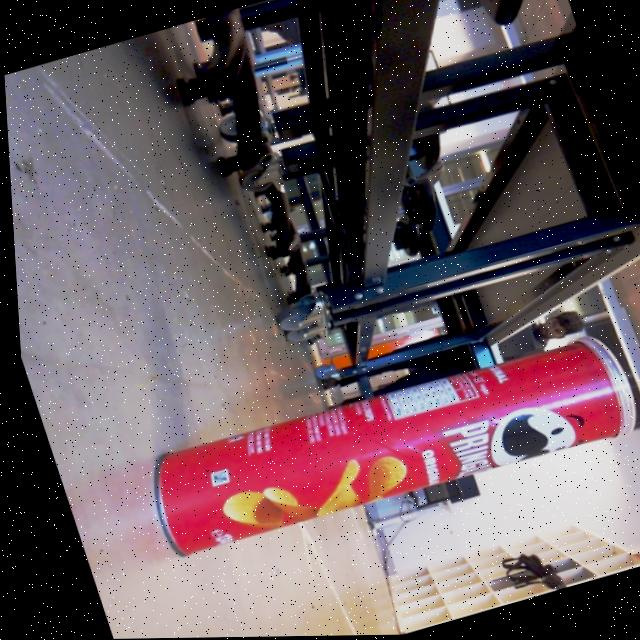redpringles: (104, 306, 640, 574)
